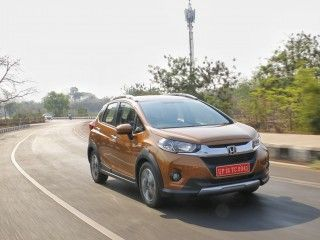car: (84, 87, 276, 214)
